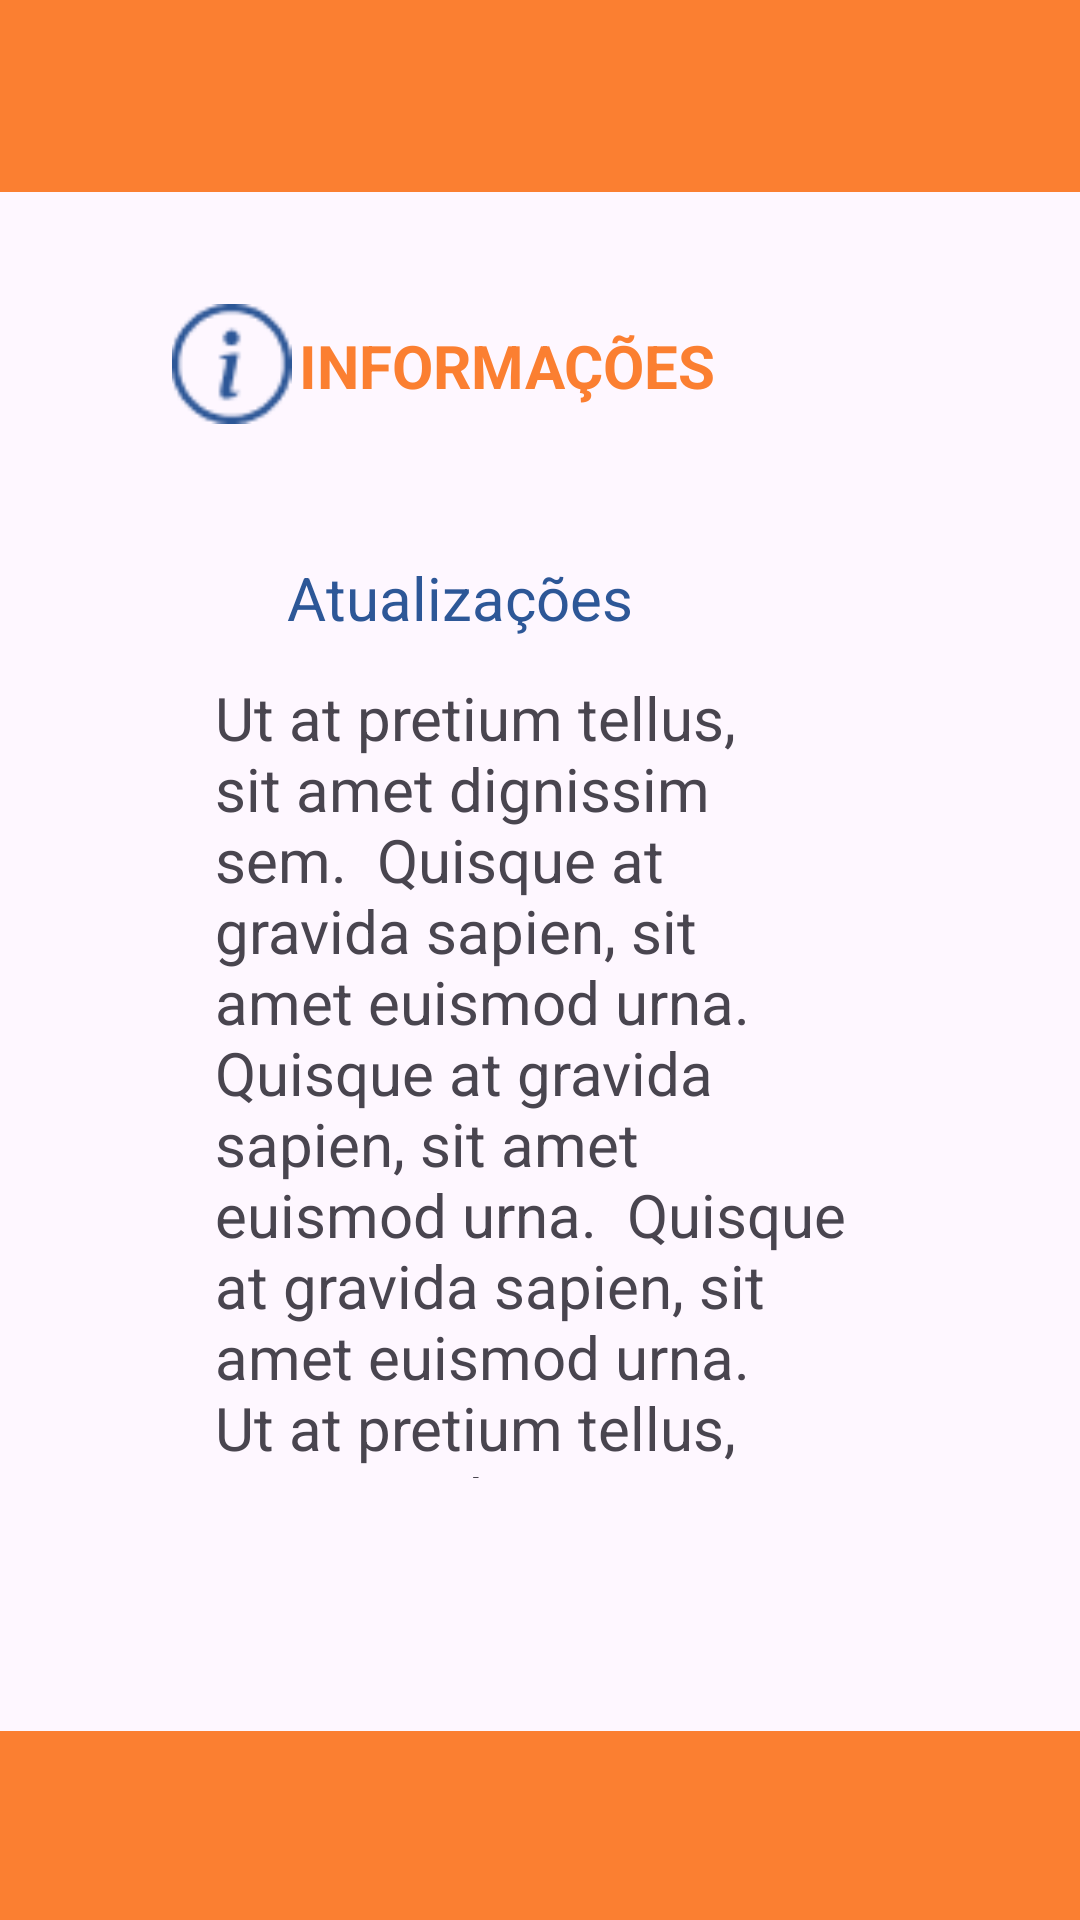

Named icons in this screenshot (1080×1920) and their bounding boxes, (x1, y1, x2, y2):
infocircle: (172, 304, 292, 424)
